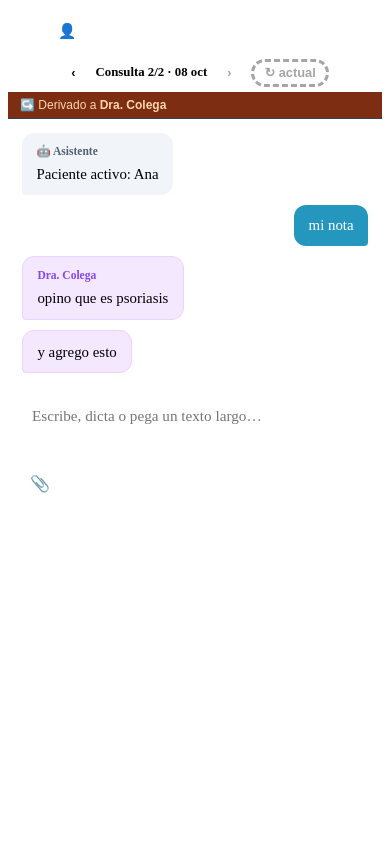
Test: IntakeChat — derivar › a quien ya está derivado se lo marca y no se lo puede volver a elegir
Click the button with class "iderivado" at (60, 105), box [8, 92, 382, 119]
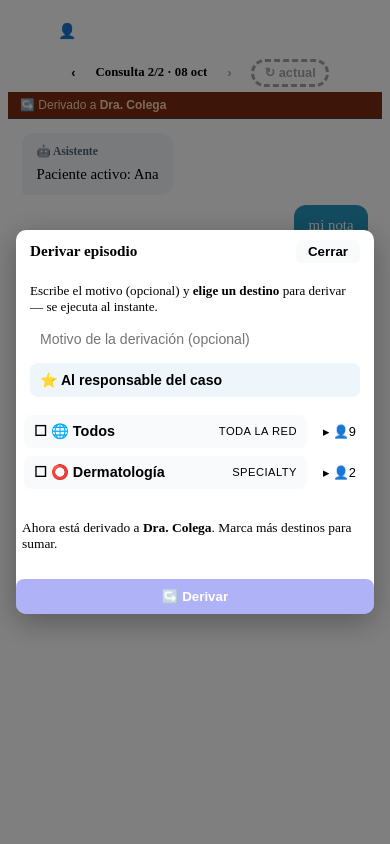
Click the button with class "dg-expand" showing "▸ 👤2" at (339, 472), box [313, 456, 366, 489]
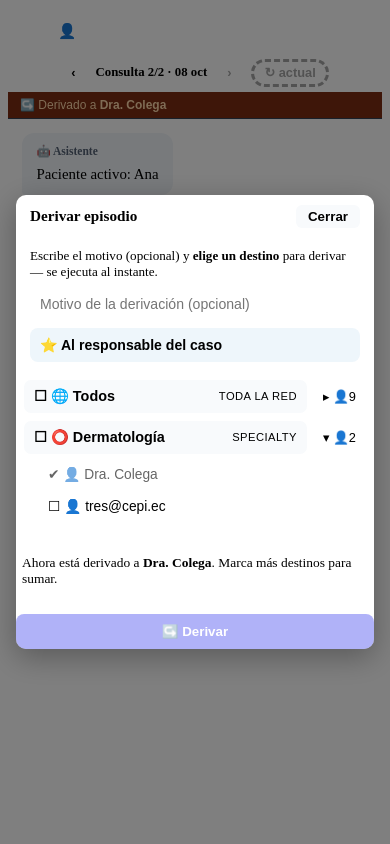
Now the button with class "dm-pick" showing "✔ 👤 Dra. Colega" is disabled, box [38, 460, 366, 488]
Now the button with class "dm-pick" showing "☐ 👤 tres@cepi.ec" is enabled, box [38, 492, 366, 520]
Now the button with class "dm-pick" shows "tres@cepi.ec", box [38, 492, 366, 520]
